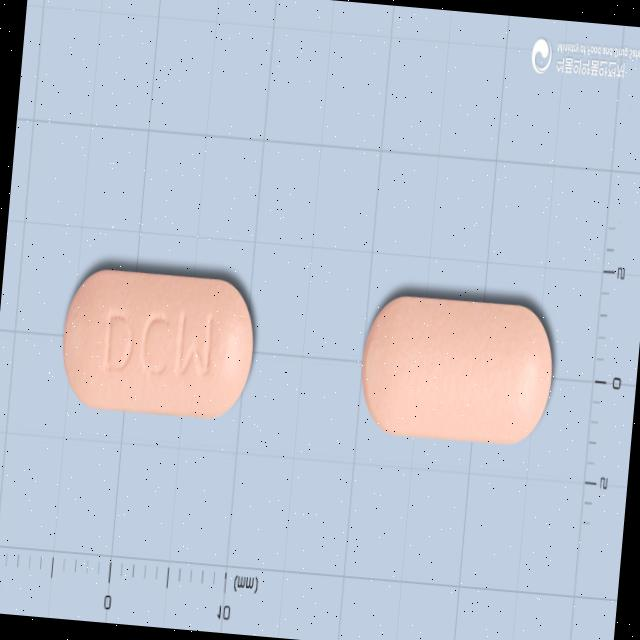Dongkoo Levofloxacin Hydrate Tab-500mg: (56, 266, 260, 424)
